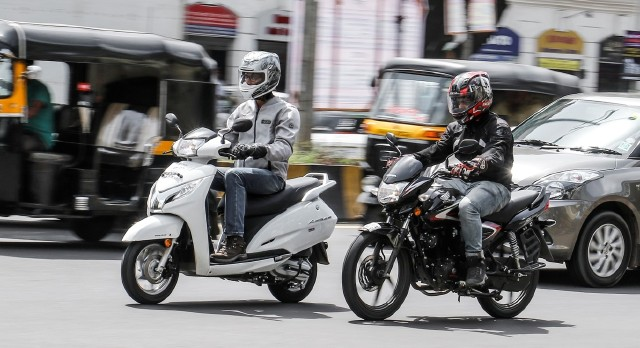helmet: (236, 52, 281, 97), (447, 69, 492, 114)
